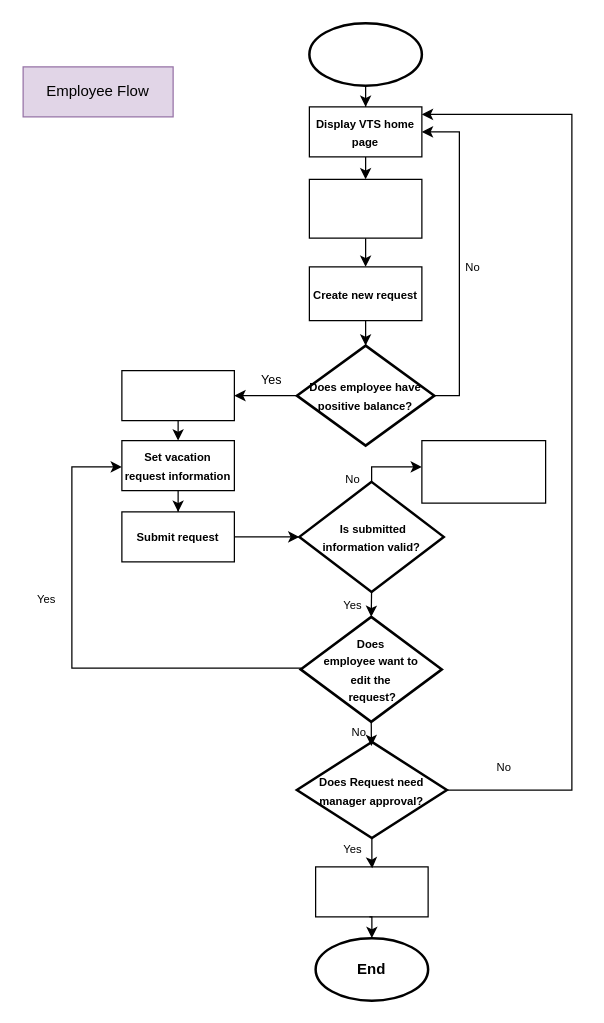
Some shapes in this 604 by 1023 pixel diagram are drawn without their labels. The shapes that lost their labels are listed below. From the top down, each one's centre as x and y in pixels, then its label:
At point (365, 53): "Start".
At point (365, 208): "Authenticate employee".
At point (177, 395): "Allow request creation".
At point (483, 471): "Redisplay the Web Page with errors highlighted".
At point (371, 891): "Send email to managers".
